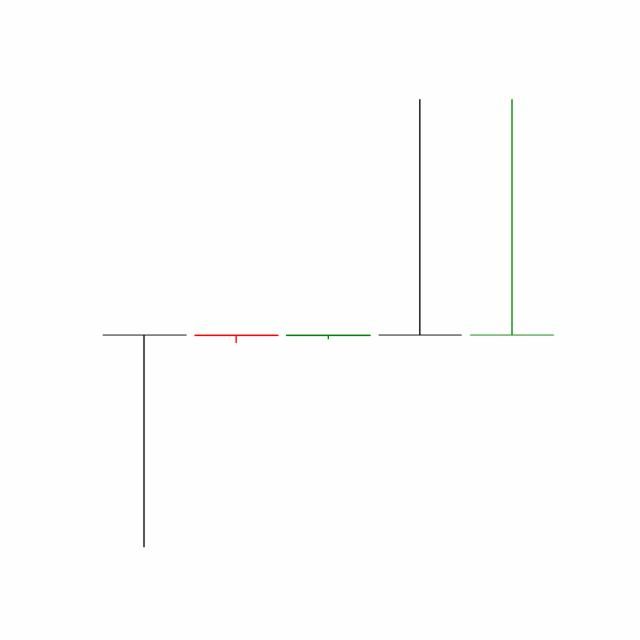Gravestone Doji: (464, 96, 558, 338)
